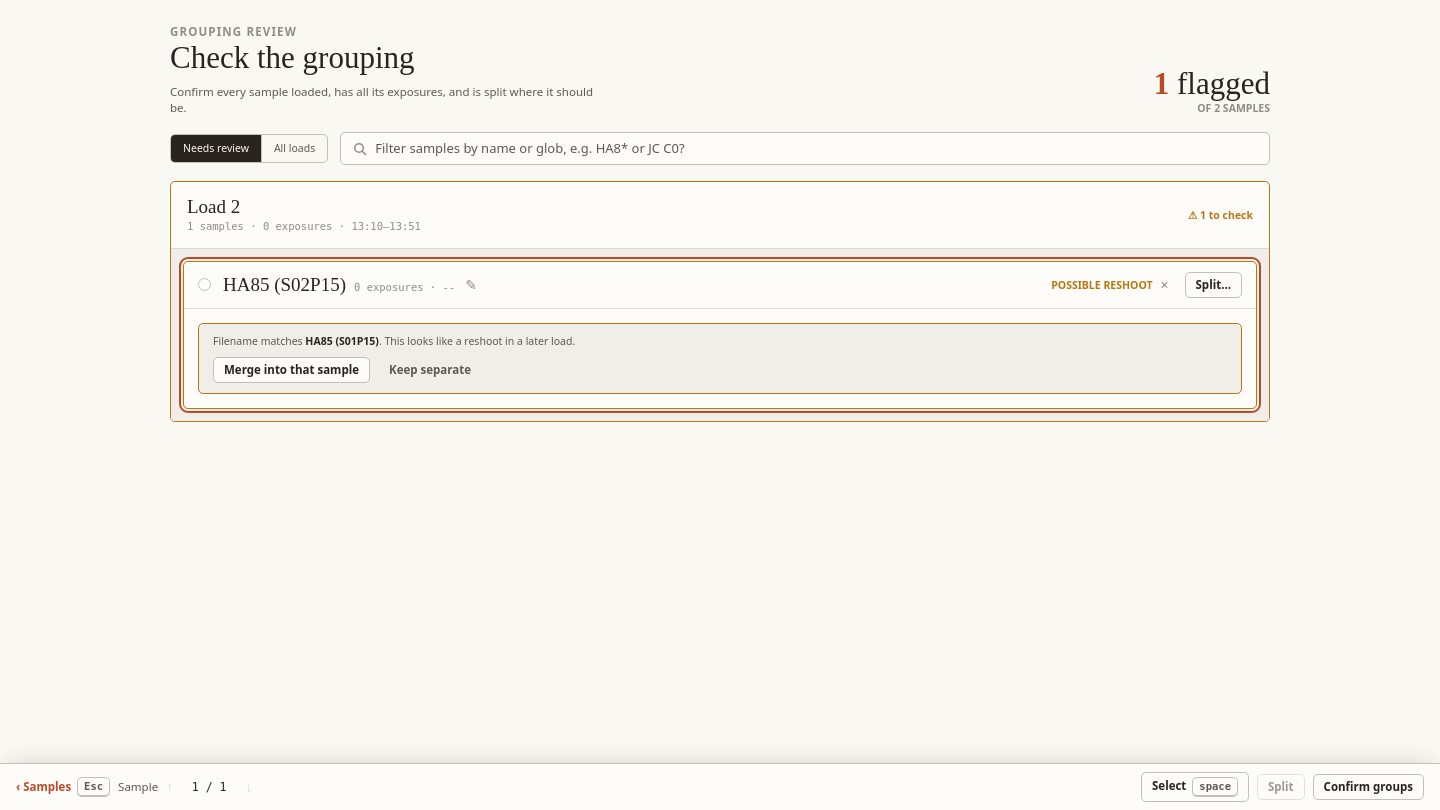
Test case: GroupingReviewPage filter + persistent selection › 'All loads' reveals every load
Click the button "All loads" at (295,149), box [262,135,327,162]
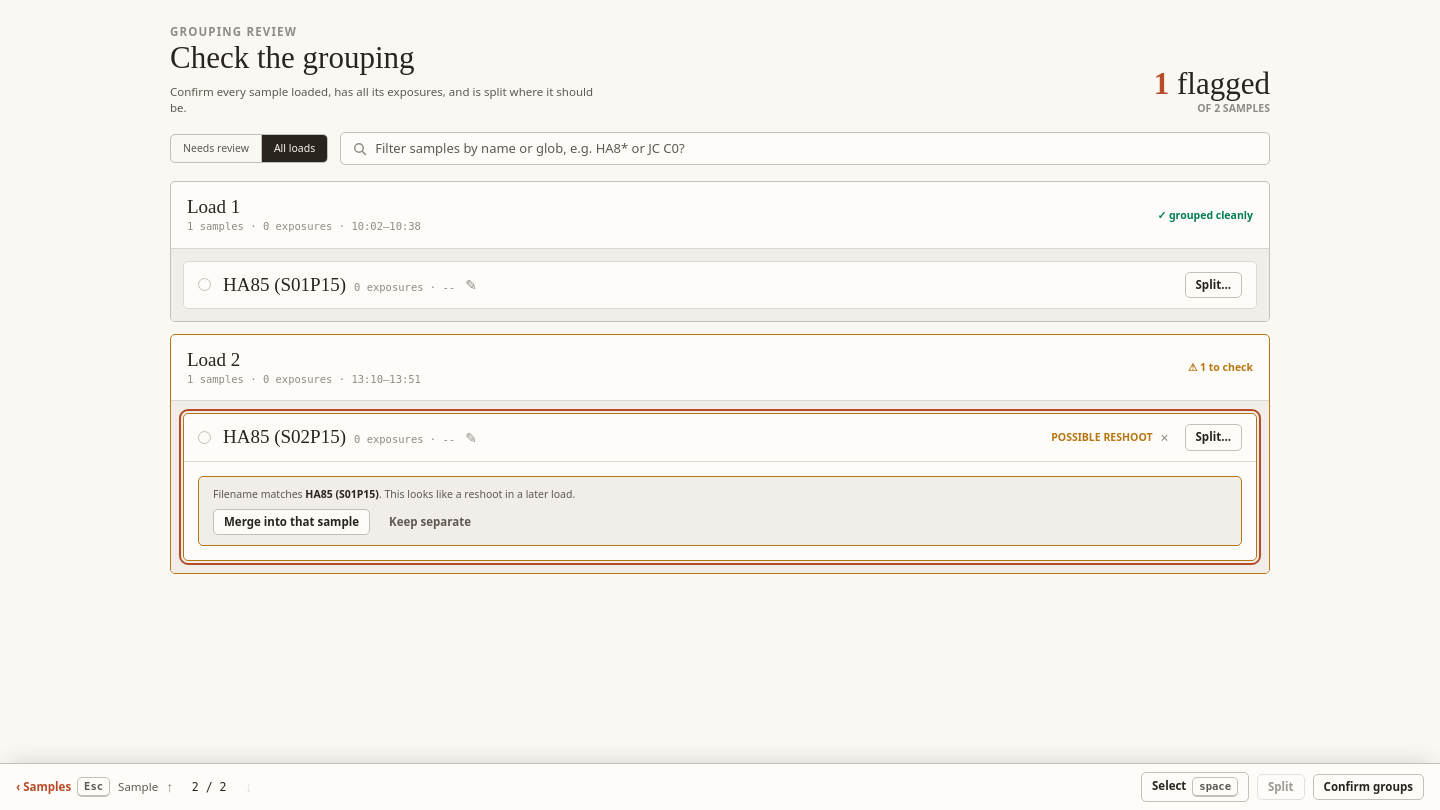
Expected: the text "Load 2" is shown, [187,349,240,370]
Expected: the text "Load 1" is shown, [187,196,240,217]
